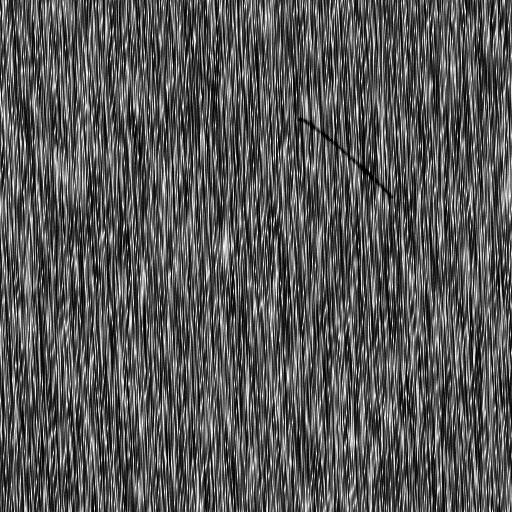DefectTypeC: (298, 114, 401, 200)
